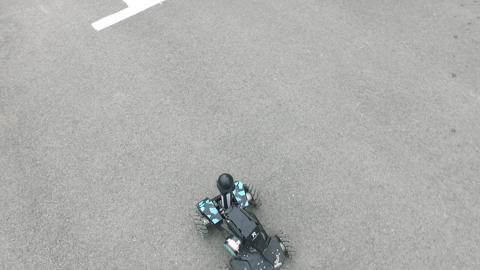chariot: (193, 171, 296, 270)
